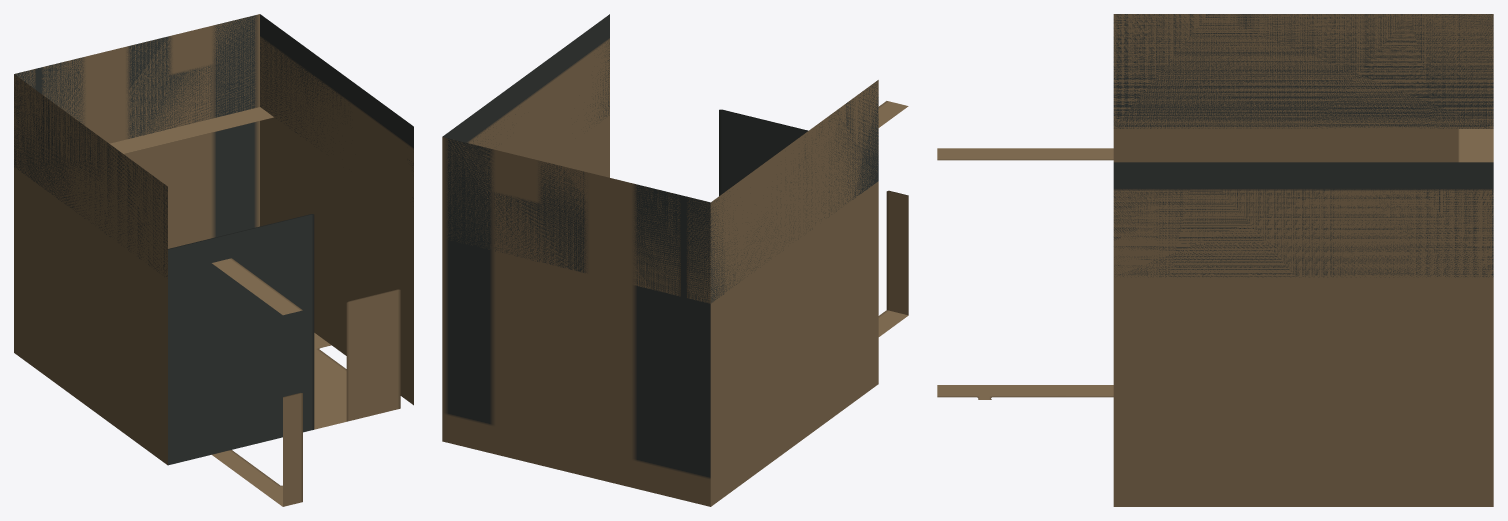
The model's file is section-5.obj.
3 views of the same model, side by side, from view 1: azimuth 30°, elevation 25°; view 2: azimuth 150°, elevation 25°; view 3: azimuth 270°, elevation 25° (orthographic). The views are drawn at different scales.
Bounding box in the file's own units: 0.846 × 0.9165 × 1.34.
